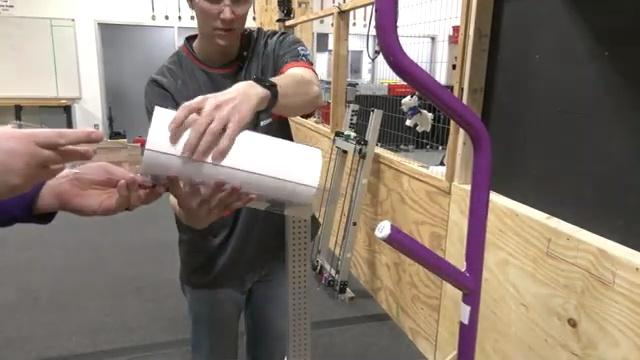CORAL: (138, 103, 323, 207)
